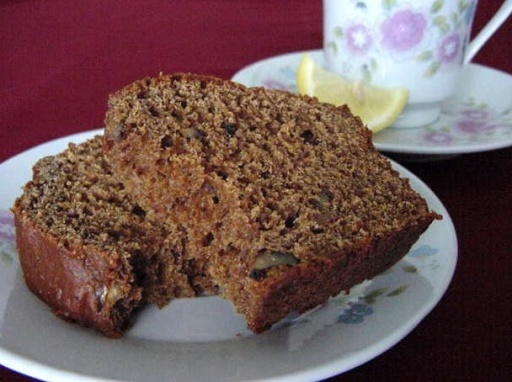background: (6, 32, 354, 202)
